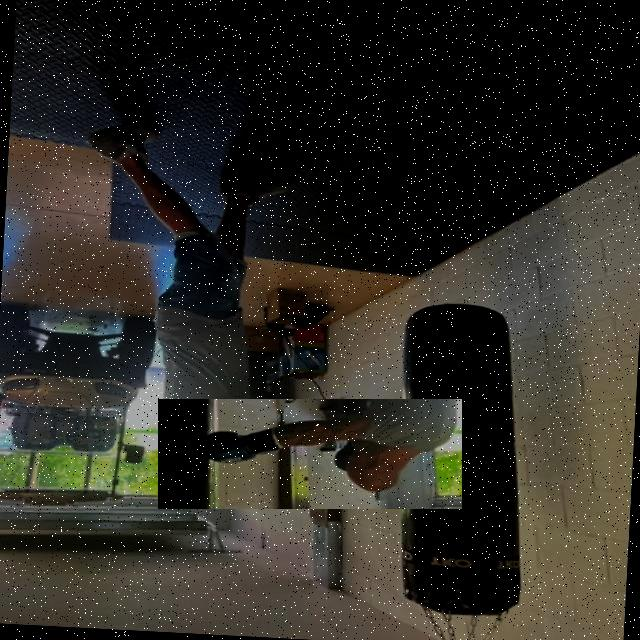punch: (158, 399, 462, 509)
